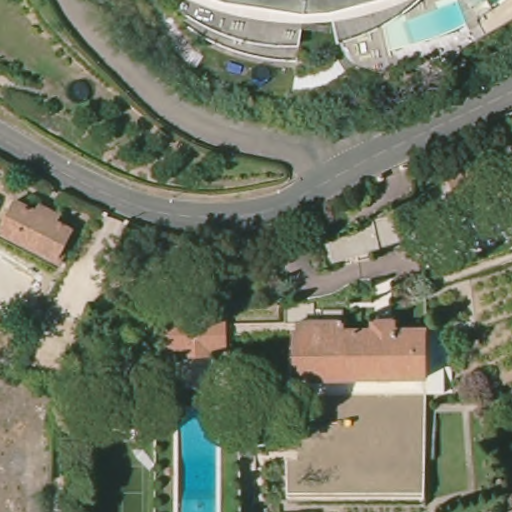pool: (172, 393, 227, 512), (404, 4, 466, 44)
